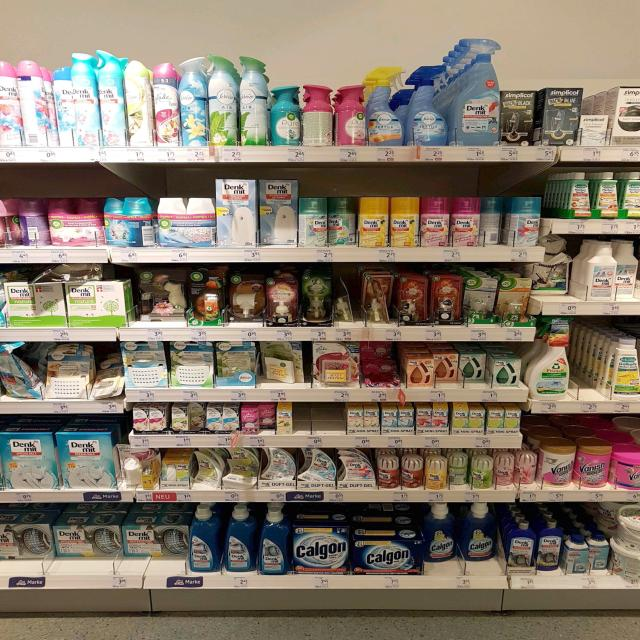empty_space: (579, 332, 605, 397), (305, 404, 339, 428)
